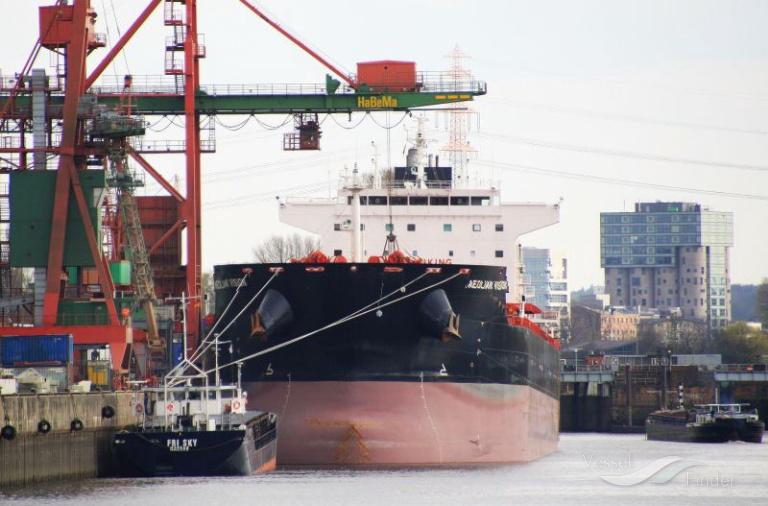OCR: (464, 274, 509, 294), (214, 274, 250, 292)
